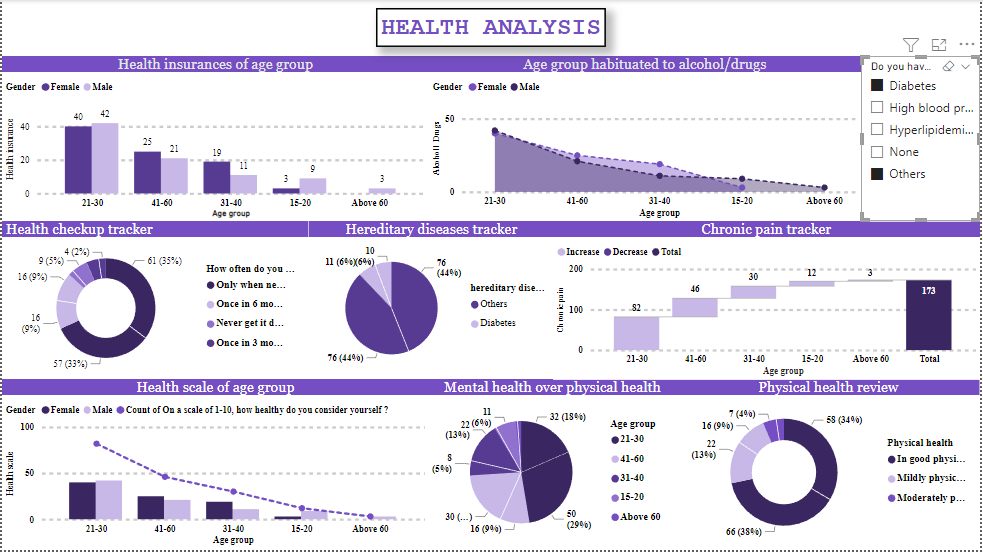

This screenshot's page, from the dashboard's own definition file:
{"tool":"powerbi","page":{"name":"Page 2","canvas":[1280,720],"ordinal":1},"visuals":[{"type":"areaChart","title":"Age group habituated to alcohol/drugs ","fields":{"Category":["Health Analysis.Age group"],"Y":["CountNonNull(Health Analysis.Are you habituated to alcohol/drugs ?)"],"Series":["Health Analysis.Gender"]},"box":[558.7,72.8,565.5,216.7],"z":0},{"type":"slicer","fields":{"Values":["Health Analysis.Do you have any hereditary conditions/ diseases ?"]},"box":[1124.2,72.8,155.8,216.7],"z":1000},{"type":"clusteredColumnChart","title":"Health insurances of age group","fields":{"Series":["Health Analysis.Gender"],"Category":["Health Analysis.Age group"],"Y":["CountNonNull(Health Analysis.Do you have a health insurance ? )"]},"box":[0,72.8,558.7,216.7],"z":2000},{"type":"pieChart","title":"Hereditary diseases tracker","fields":{"Series":["Health Analysis.Gender"],"Category":["Health Analysis.Do you have any hereditary conditions/ diseases ?"],"Y":["CountNonNull(Health Analysis.Gender)"]},"box":[401.3,289.5,320,206.6],"z":3000},{"type":"donutChart","title":"Health checkup tracker","fields":{"Series":["Health Analysis.Gender"],"Y":["CountNonNull(Health Analysis.Gender)"],"Category":["Health Analysis.How often do you get a health checkup ? "]},"box":[0,289.5,401.3,206.6],"z":4000},{"type":"lineClusteredColumnComboChart","title":"Health scale of age group","fields":{"Category":["Health Analysis.Age group"],"Series":["Health Analysis.Gender"],"Y":["CountNonNull(Health Analysis.On a scale of 1-10, how healthy do you consider yourself ?)"],"Y2":["CountNonNull(Health Analysis.On a scale of 1-10, how healthy do you consider yourself ?)"]},"box":[0,496.1,558.7,223.5],"z":5000},{"type":"donutChart","title":"Physical health review ","fields":{"Y":["CountNonNull(Health Analysis.Gender)"],"Series":["Health Analysis.Gender"],"Category":["Health Analysis.Would you say you are :"]},"box":[883.8,496.1,396.2,223.5],"z":6000},{"type":"pieChart","title":"Mental health over physical health","fields":{"Category":["Health Analysis.Age group"],"Y":["CountNonNull(Health Analysis.Does your mental well being has an affect on your physical health ?)"],"Series":["Health Analysis.Does your mental well being has an affect on your physical health ?"]},"box":[558.3,495.9,325.5,223],"z":7000},{"type":"waterfallChart","title":"Chronic pain tracker ","fields":{"Category":["Health Analysis.Age group"],"Y":["CountNonNull(Health Analysis.Do you experience any chronic pain ?)"]},"box":[721.3,289.5,558.7,208.3],"z":8000},{"type":"shape","box":[489,11.1,300.6,51.3],"z":9000}]}

Visuals, with their boxes in screenshot pixels (x1, y1, x2, y2), scaled from the page's 1280x720 canvas onto the 983x553 screenshot:
"Age group habituated to alcohol/drugs " areaChart: detection(429, 56, 863, 222)
slicer - Health Analysis.Do you have any hereditary conditions/ diseases ?: detection(863, 56, 982, 222)
"Health insurances of age group" clusteredColumnChart: detection(0, 56, 429, 222)
"Hereditary diseases tracker" pieChart: detection(308, 222, 554, 381)
"Health checkup tracker" donutChart: detection(0, 222, 308, 381)
"Health scale of age group" lineClusteredColumnComboChart: detection(0, 381, 429, 552)
"Physical health review " donutChart: detection(679, 381, 982, 552)
"Mental health over physical health" pieChart: detection(429, 381, 679, 552)
"Chronic pain tracker " waterfallChart: detection(554, 222, 982, 382)
shape: detection(376, 9, 606, 48)
